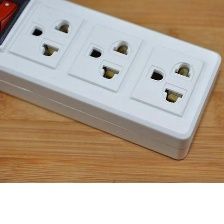three_eye_plug: (0, 0, 223, 163)
